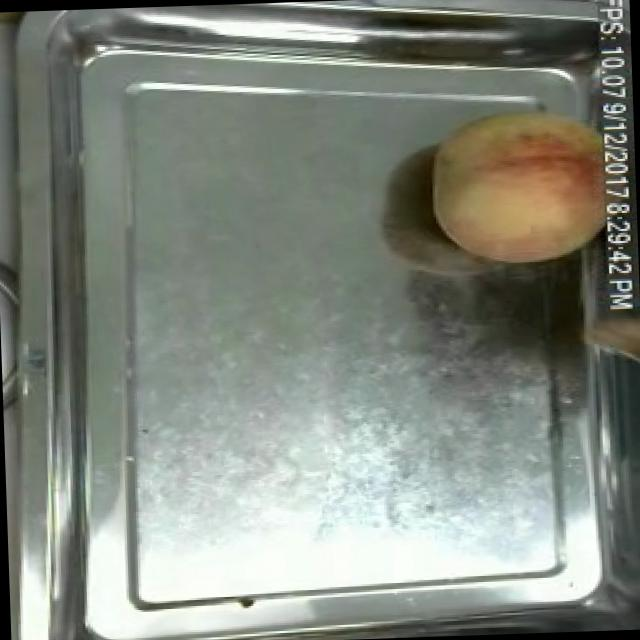Fruit: (419, 83, 634, 280)
